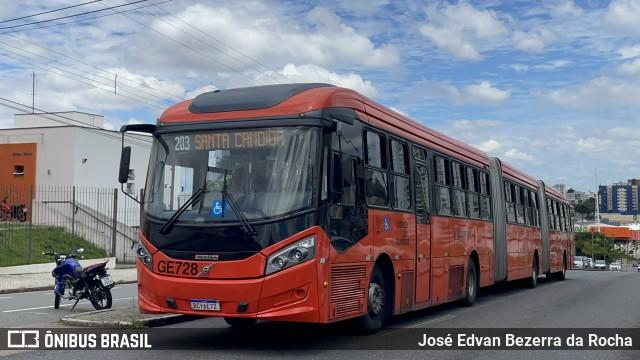SANTA CANDIDA: (192, 128, 289, 152)
